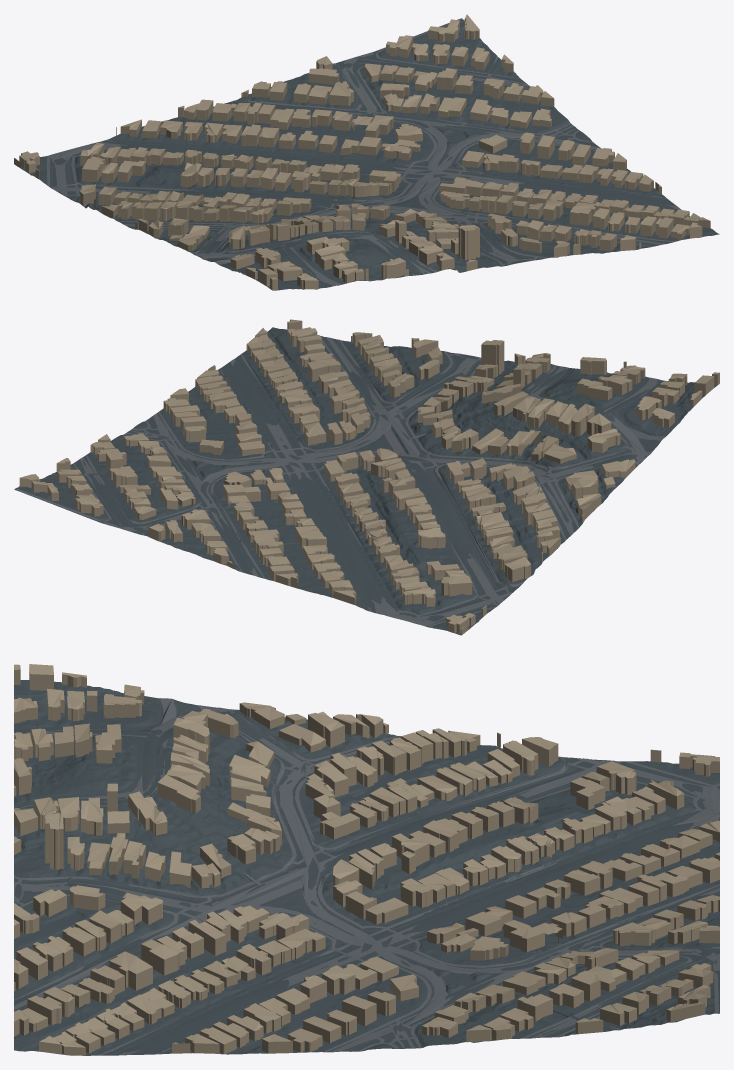
Rendered from epsg26910-1425-10879.lod0.glb.
The picture shows the model from 3 angles, top to bottom: view 1: azimuth 30°, elevation 25°; view 2: azimuth 150°, elevation 25°; view 3: azimuth 270°, elevation 25°; orthographic projection. The views are drawn at different scales.
Visible parts, largest first — view 1: epsg26910-1425-10879-lod0; view 2: epsg26910-1425-10879-lod0; view 3: epsg26910-1425-10879-lod0.
Boxes of the visible parts, left/top/right/bottom form: epsg26910-1425-10879-lod0: left=14, top=14, right=719, bottom=290; epsg26910-1425-10879-lod0: left=14, top=319, right=719, bottom=635; epsg26910-1425-10879-lod0: left=14, top=664, right=719, bottom=1055.
Bounding box in the file's own units: 384 × 60.92 × 384.
